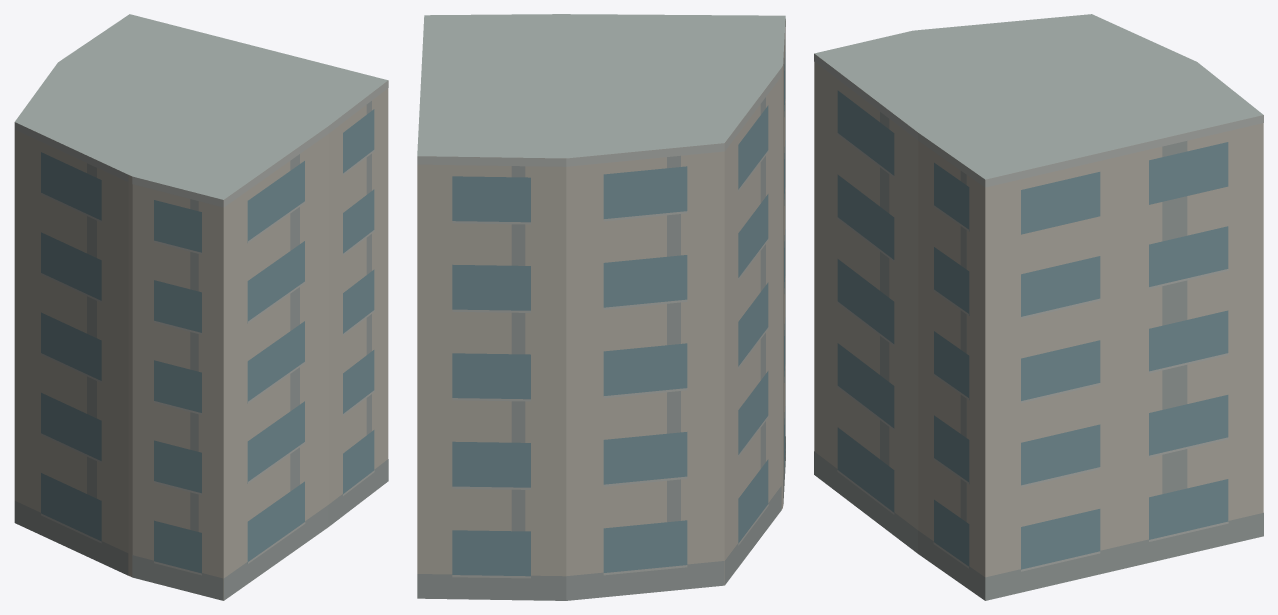
File: survey-upis-32726276.glb
3 views of the same model, side by side, from view 1: azimuth 30°, elevation 25°; view 2: azimuth 150°, elevation 25°; view 3: azimuth 270°, elevation 25° (orthographic). The views are drawn at different scales.
Visible parts, largest first — view 1: survey-upis-32726276.tmp; view 2: survey-upis-32726276.tmp; view 3: survey-upis-32726276.tmp.
Part boxes in pixels (left/top/right/bottom): survey-upis-32726276.tmp: left=14, top=14, right=388, bottom=600; survey-upis-32726276.tmp: left=417, top=14, right=785, bottom=600; survey-upis-32726276.tmp: left=814, top=14, right=1263, bottom=600.
Bounding box in the file's own units: 10.8 × 12.8 × 12.39.
